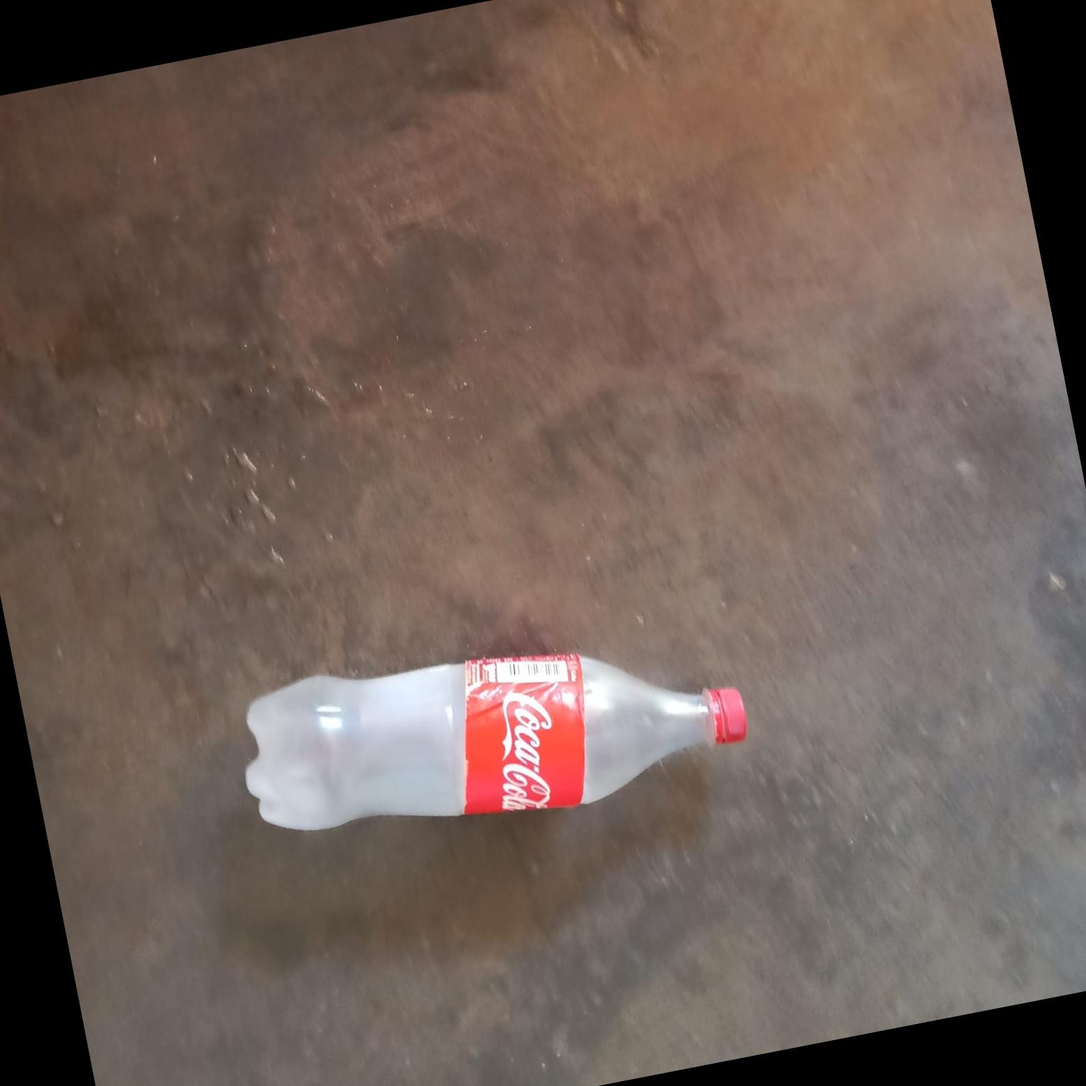Plastik: (227, 597, 756, 868)
